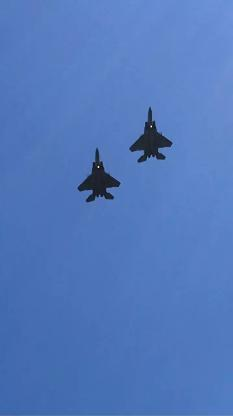F117: (77, 146, 120, 202), (129, 106, 172, 162)
